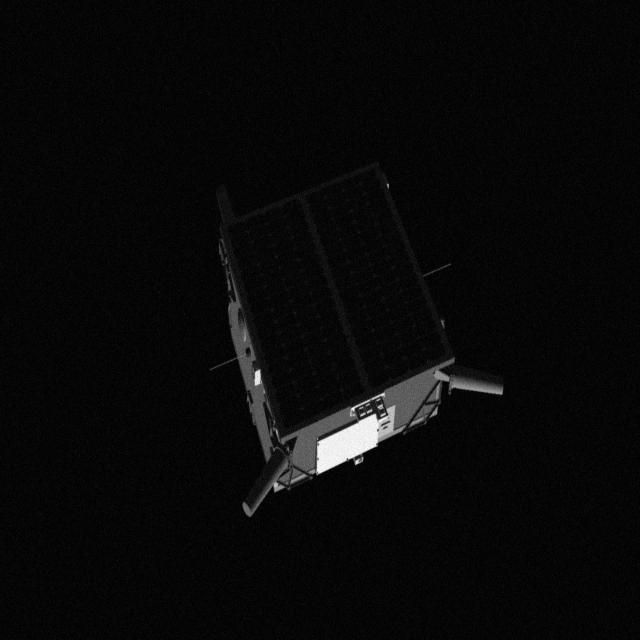medium_debris: (204, 150, 508, 516)
